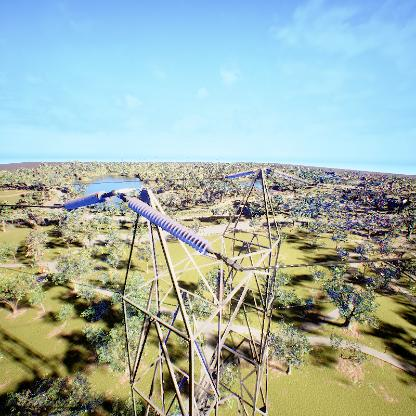insulator: (126, 195, 213, 257), (62, 190, 110, 209), (226, 169, 257, 178)
